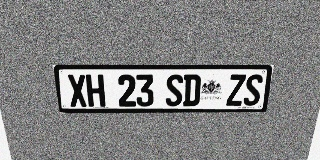2: (118, 74, 136, 107)
3: (136, 74, 153, 106)
D: (183, 74, 201, 106)
H: (85, 74, 106, 107)
S: (243, 74, 264, 106), (166, 74, 183, 106)
X: (67, 74, 88, 107)
Z: (226, 74, 246, 106)
